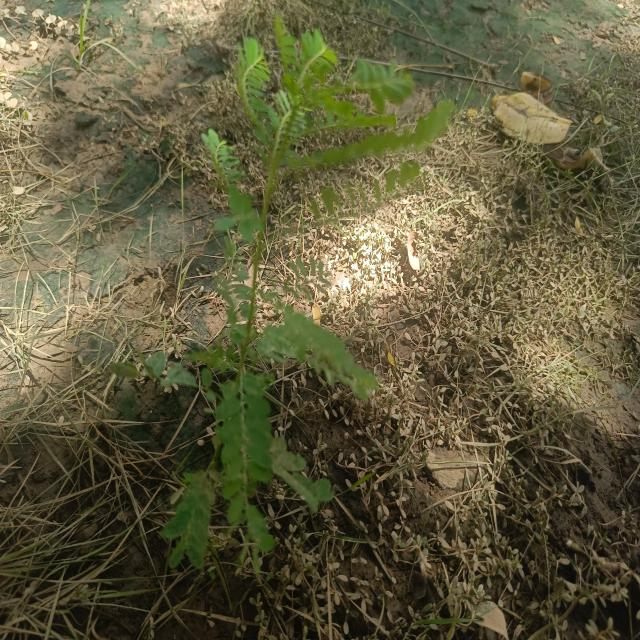weed: (170, 13, 454, 578)
